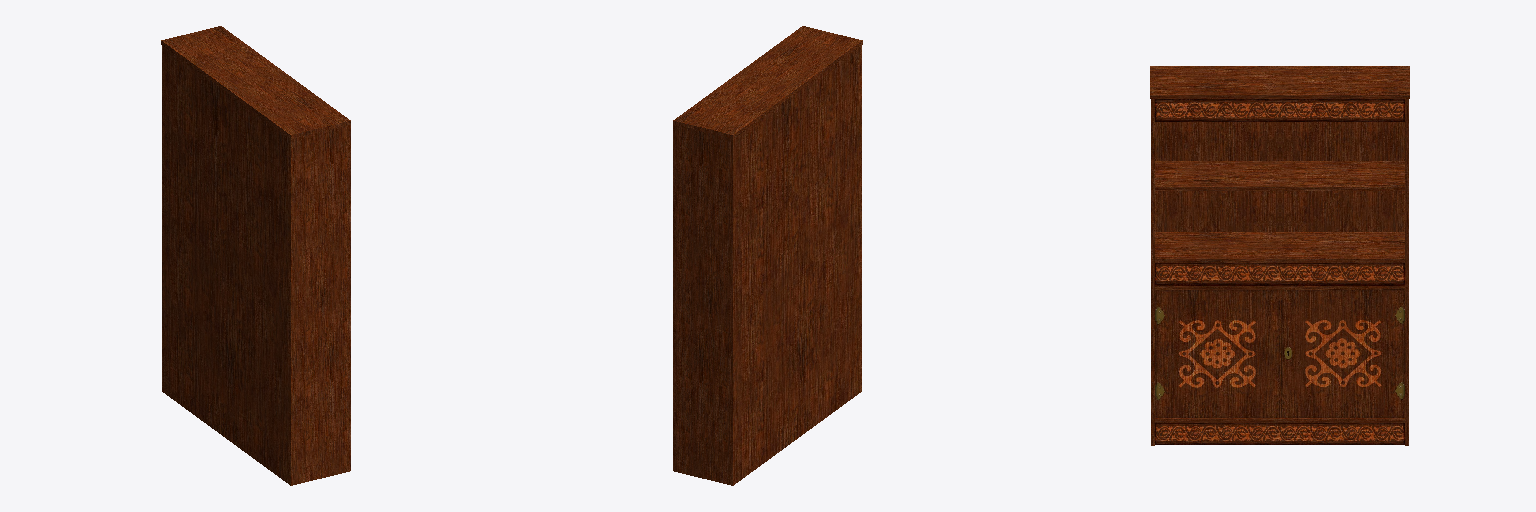
3 views of the same model, side by side, from view 1: azimuth 30°, elevation 25°; view 2: azimuth 150°, elevation 25°; view 3: azimuth 270°, elevation 25° (orthographic).
Parts seen in each view (by area): view 1: shelf; view 2: shelf; view 3: shelf, door_L, door_R.
Boxes of the visible parts, x1=… form: shelf: x1=161, y1=26, x2=350, y2=485; shelf: x1=673, y1=26, x2=862, y2=485; shelf: x1=1150, y1=66, x2=1409, y2=445; door_L: x1=1155, y1=290, x2=1279, y2=417; door_R: x1=1280, y1=290, x2=1404, y2=417.
Bounding box in the file's own units: 0.3374 × 1.89 × 1.26.
Materials: 1 (1 with a texture image).